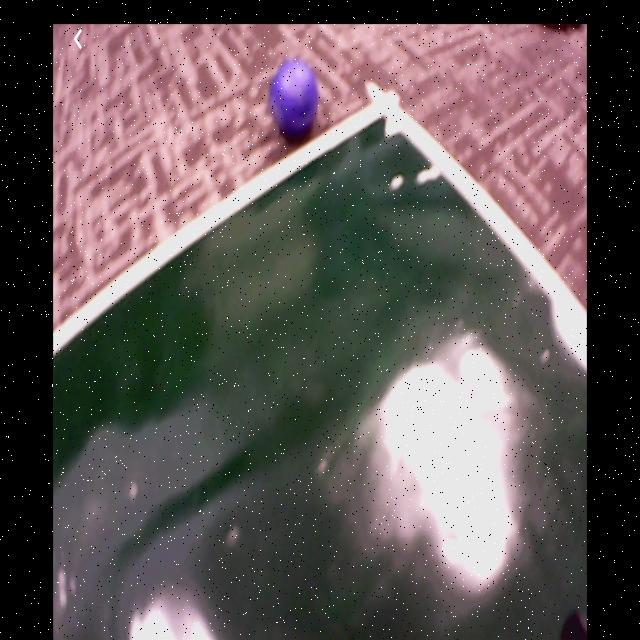ball: (271, 58, 319, 138)
